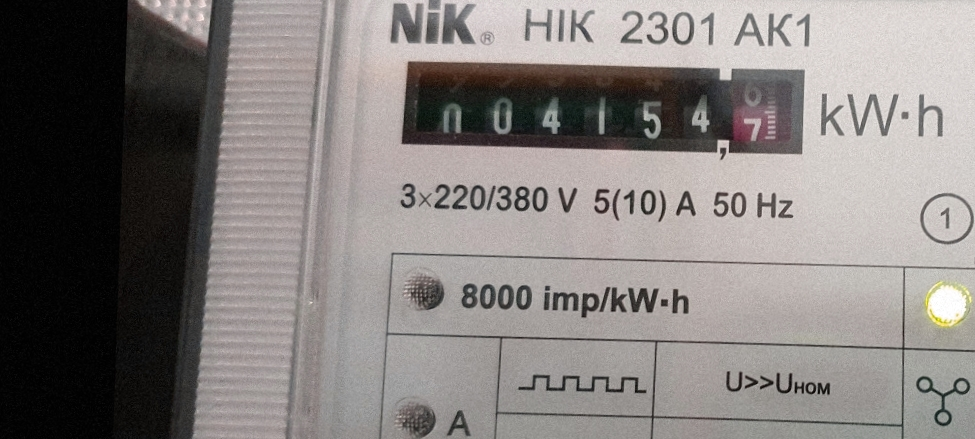0: (490, 94, 514, 136), (440, 98, 463, 133)
1: (594, 94, 609, 136)
4: (539, 94, 563, 136), (689, 90, 711, 134)
5: (639, 95, 665, 140)
6: (741, 77, 764, 108)
7: (740, 113, 762, 143)
screen: (385, 41, 822, 171)
